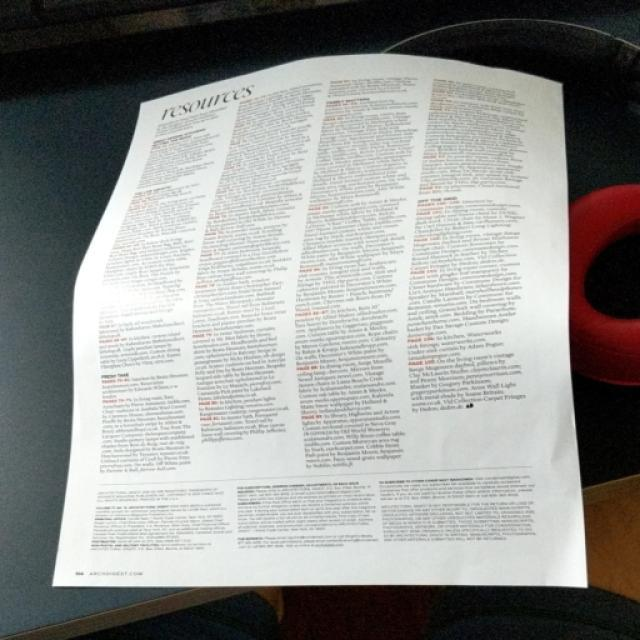document: (54, 55, 586, 585)
